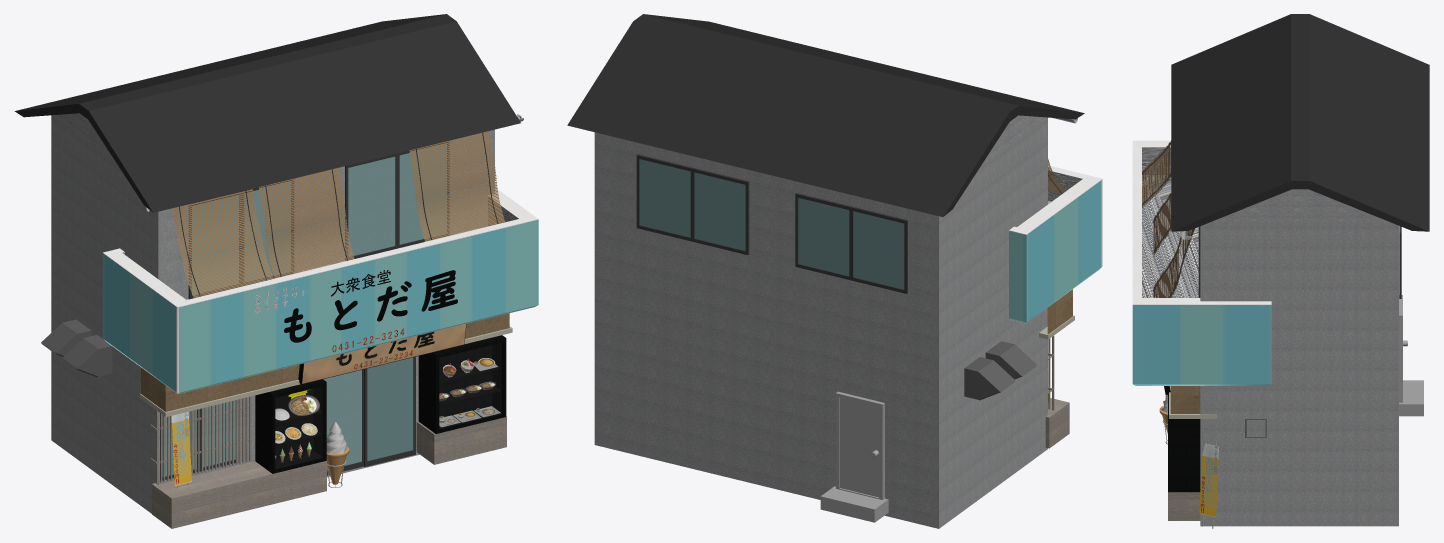
The model's file is restaurant_ikeda_000_mid.fbx.
3 views of the same model, side by side, from view 1: azimuth 30°, elevation 25°; view 2: azimuth 150°, elevation 25°; view 3: azimuth 270°, elevation 25° (orthographic). The views are drawn at different scales.
Parts seen in each view (by area): view 1: pCube192; view 2: pCube192; view 3: pCube192.
Boxes of the visible parts, x1,y1,x2,y2 form: pCube192: (14,14,538,528); pCube192: (567,14,1102,528); pCube192: (1132,14,1429,528).
Size of the model in its own units: 9.1 by 8.38 by 6.46.
